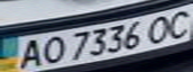3: (106, 21, 130, 54), (87, 25, 112, 56)
6: (121, 18, 151, 50)
7: (66, 29, 90, 61)
A: (12, 37, 48, 70)
C: (160, 7, 193, 39)
O: (142, 12, 178, 44), (36, 34, 69, 65)
